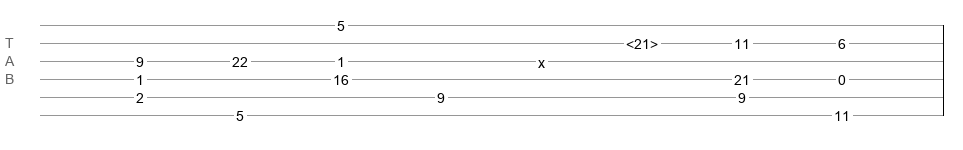0: (838, 72, 846, 82)
1: (136, 72, 144, 82), (337, 54, 345, 64)
11: (734, 36, 750, 46), (834, 108, 850, 118)
16: (333, 72, 349, 82)
2: (136, 90, 144, 100)
21: (734, 72, 750, 82)
22: (232, 54, 248, 64)
5: (236, 108, 244, 118), (337, 18, 345, 28)
6: (838, 36, 846, 46)
9: (136, 54, 144, 64), (437, 90, 445, 100), (738, 90, 746, 100)
harmonic: (626, 36, 658, 46)
x: (538, 55, 545, 63)
